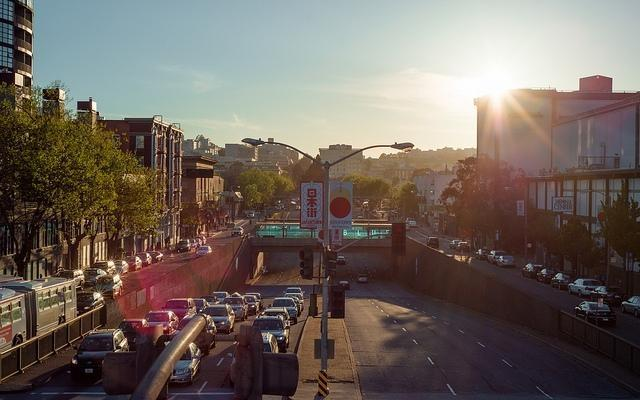bus: (0, 276, 78, 352)
car: (68, 329, 129, 375), (251, 316, 290, 354), (173, 342, 202, 384), (204, 302, 236, 334), (144, 310, 179, 334), (260, 303, 292, 326), (272, 296, 298, 324), (162, 298, 196, 318), (567, 279, 601, 298), (242, 294, 260, 316), (192, 298, 210, 313), (283, 288, 305, 300)
truck: (223, 292, 249, 321)
